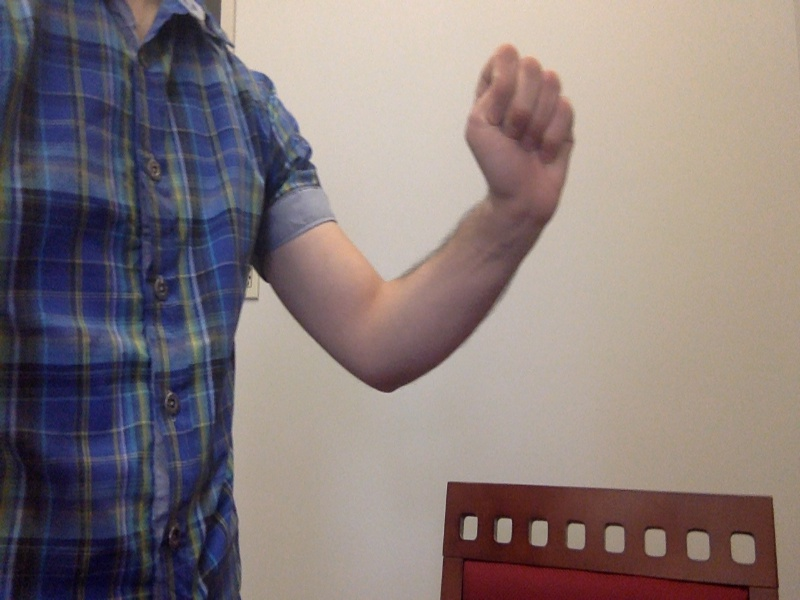0-hand: (466, 49, 589, 203)
